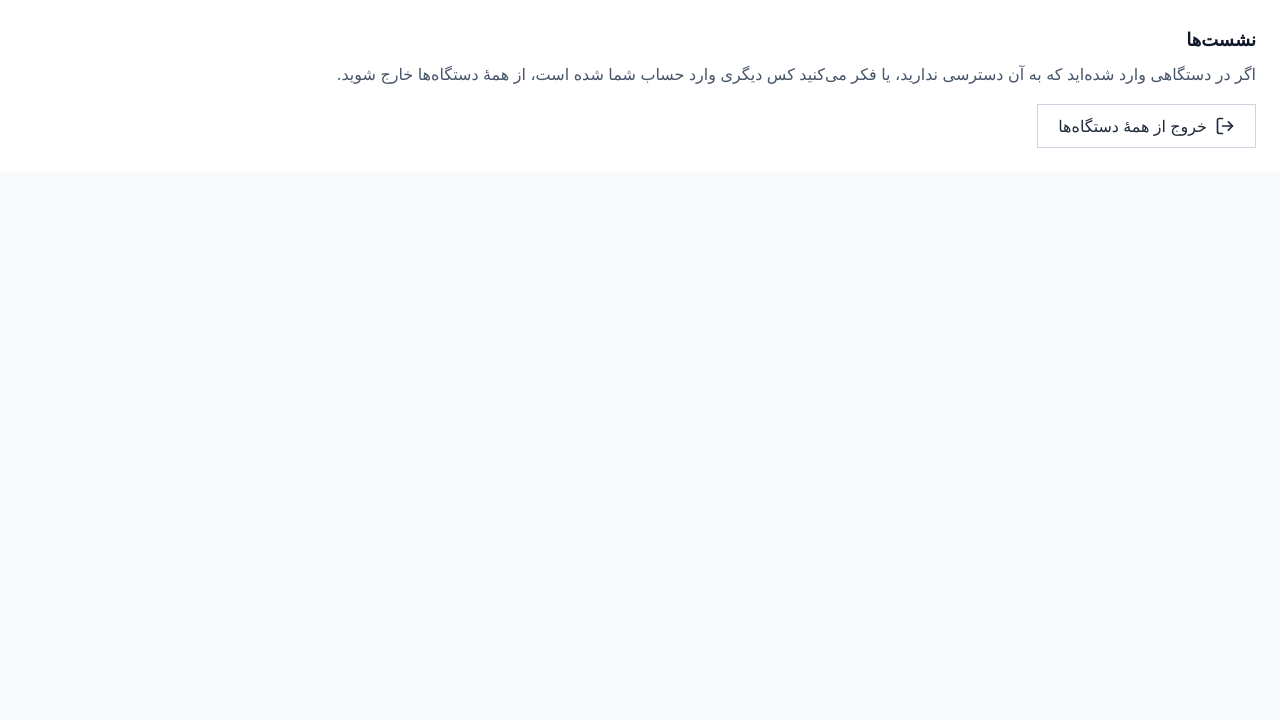
SessionsSection › asks first; «انصراف» closes the dialog, back on the button, nobody logged out
Check: the element "نشست‌ها" is shown, box [0,0,1279,172]
Click the button "خروج از همهٔ دستگاه‌ها": (1147,126) [1037,104,1256,148]
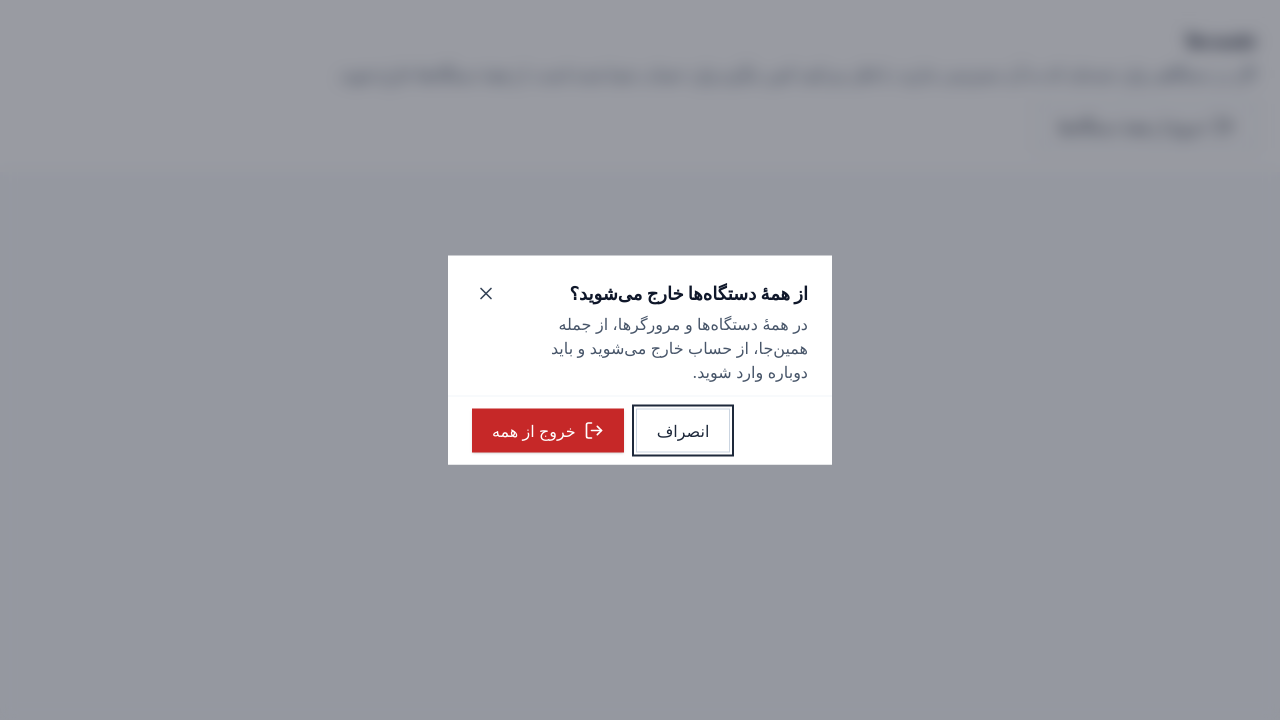
// The focus stays in the dialog.
Press Tab
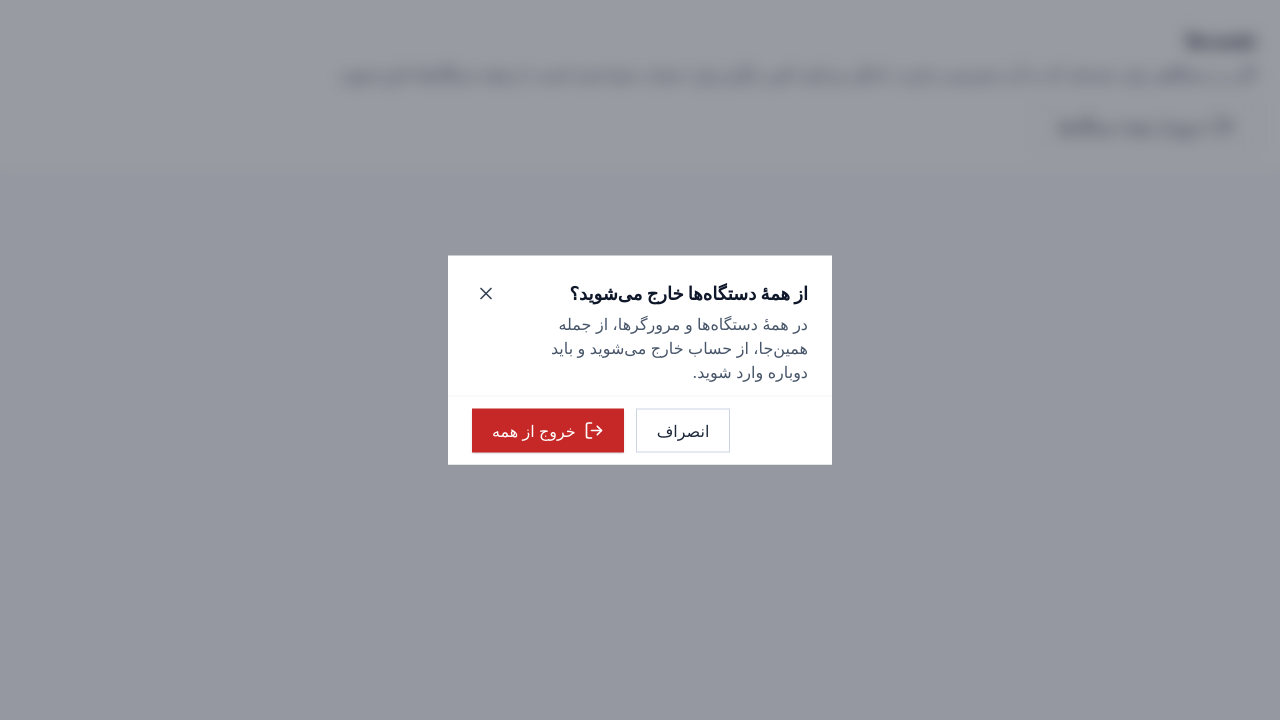
Press Tab
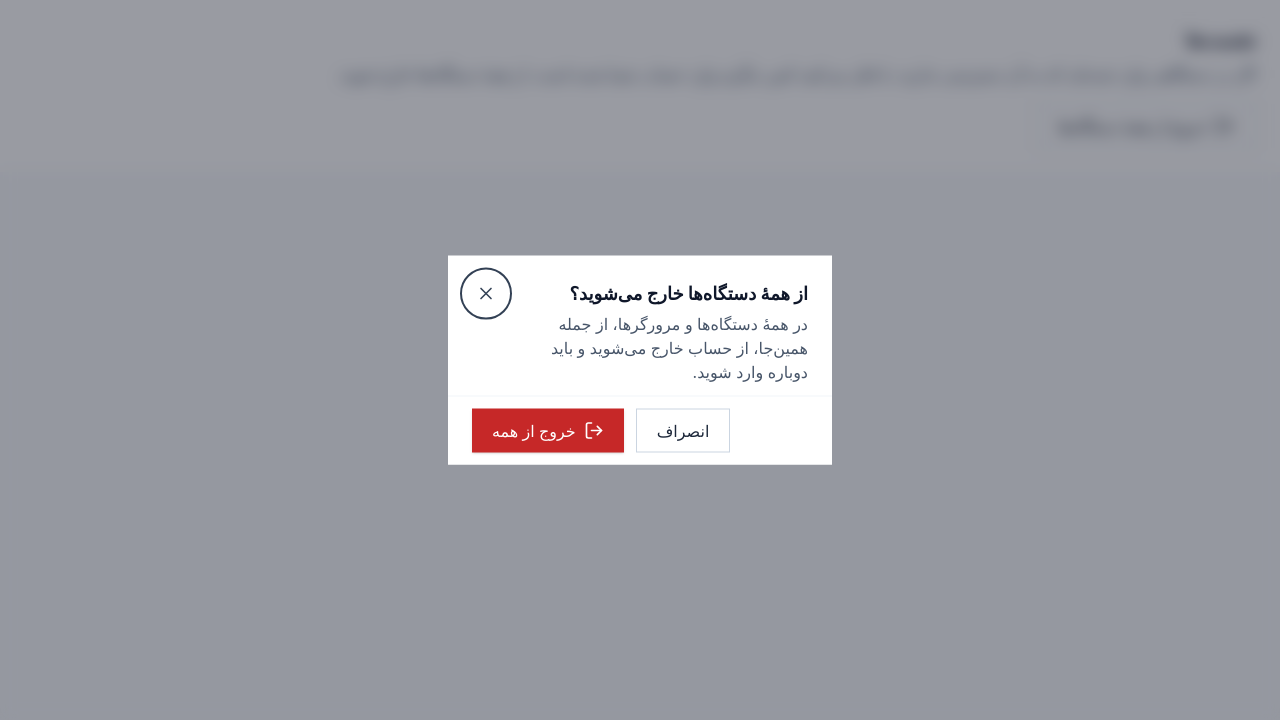
Press Tab
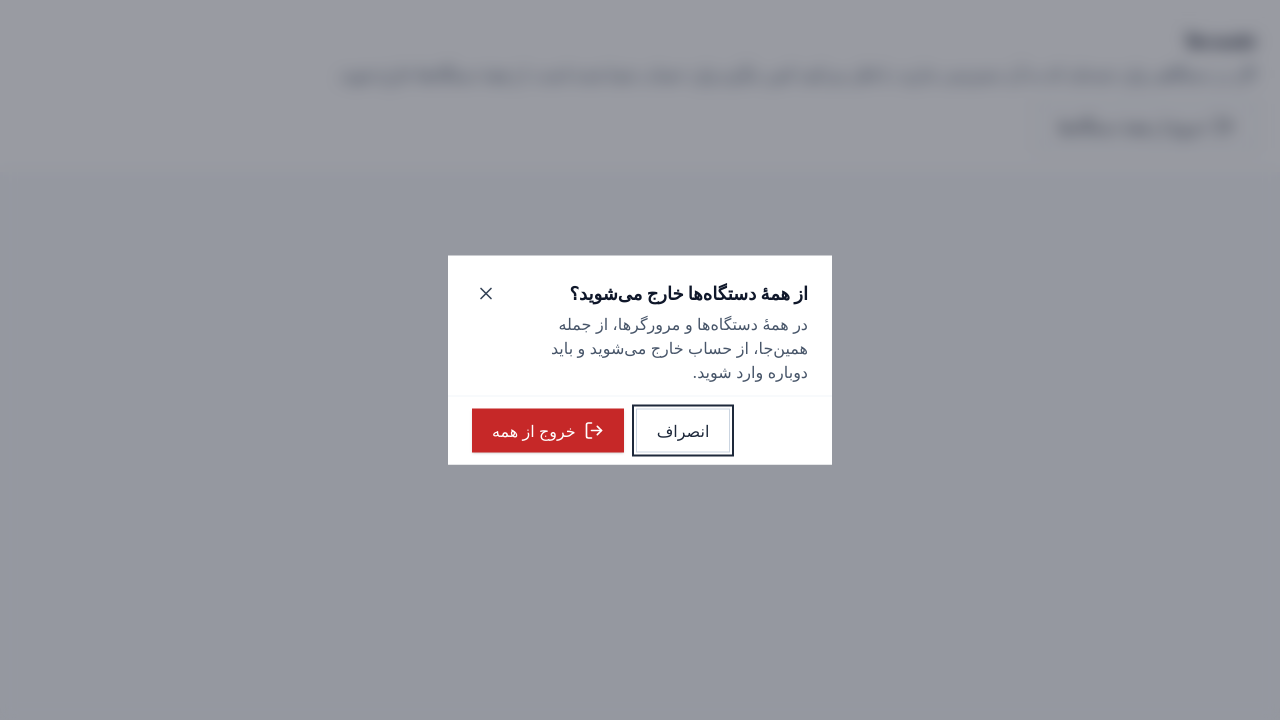
Click the button "انصراف": (683,430) [636,408,730,452]
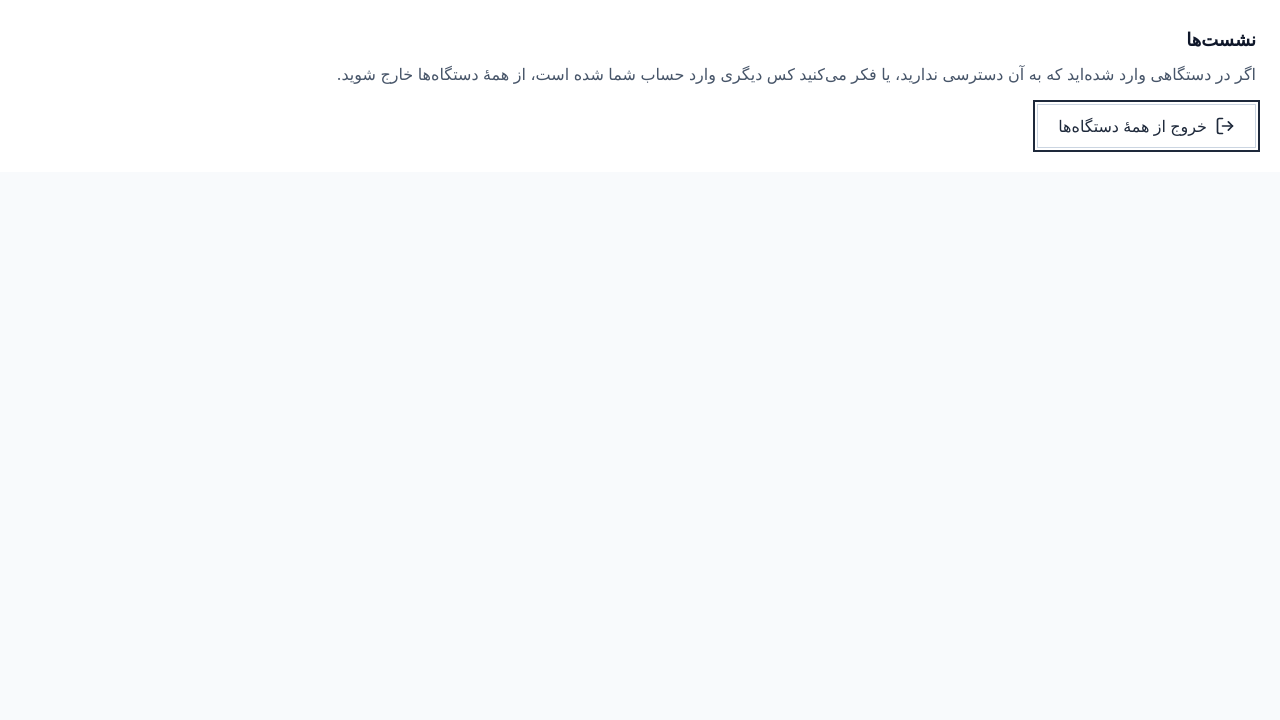
Check: the dialog is gone
